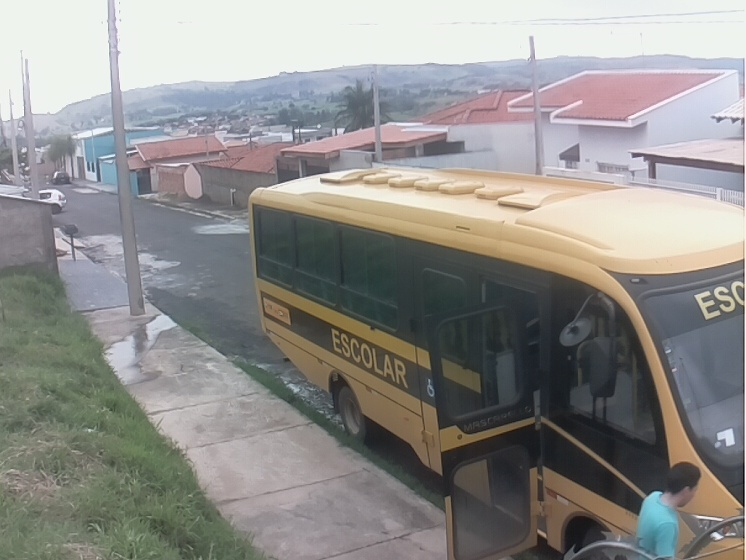person: (632, 460, 703, 560)
